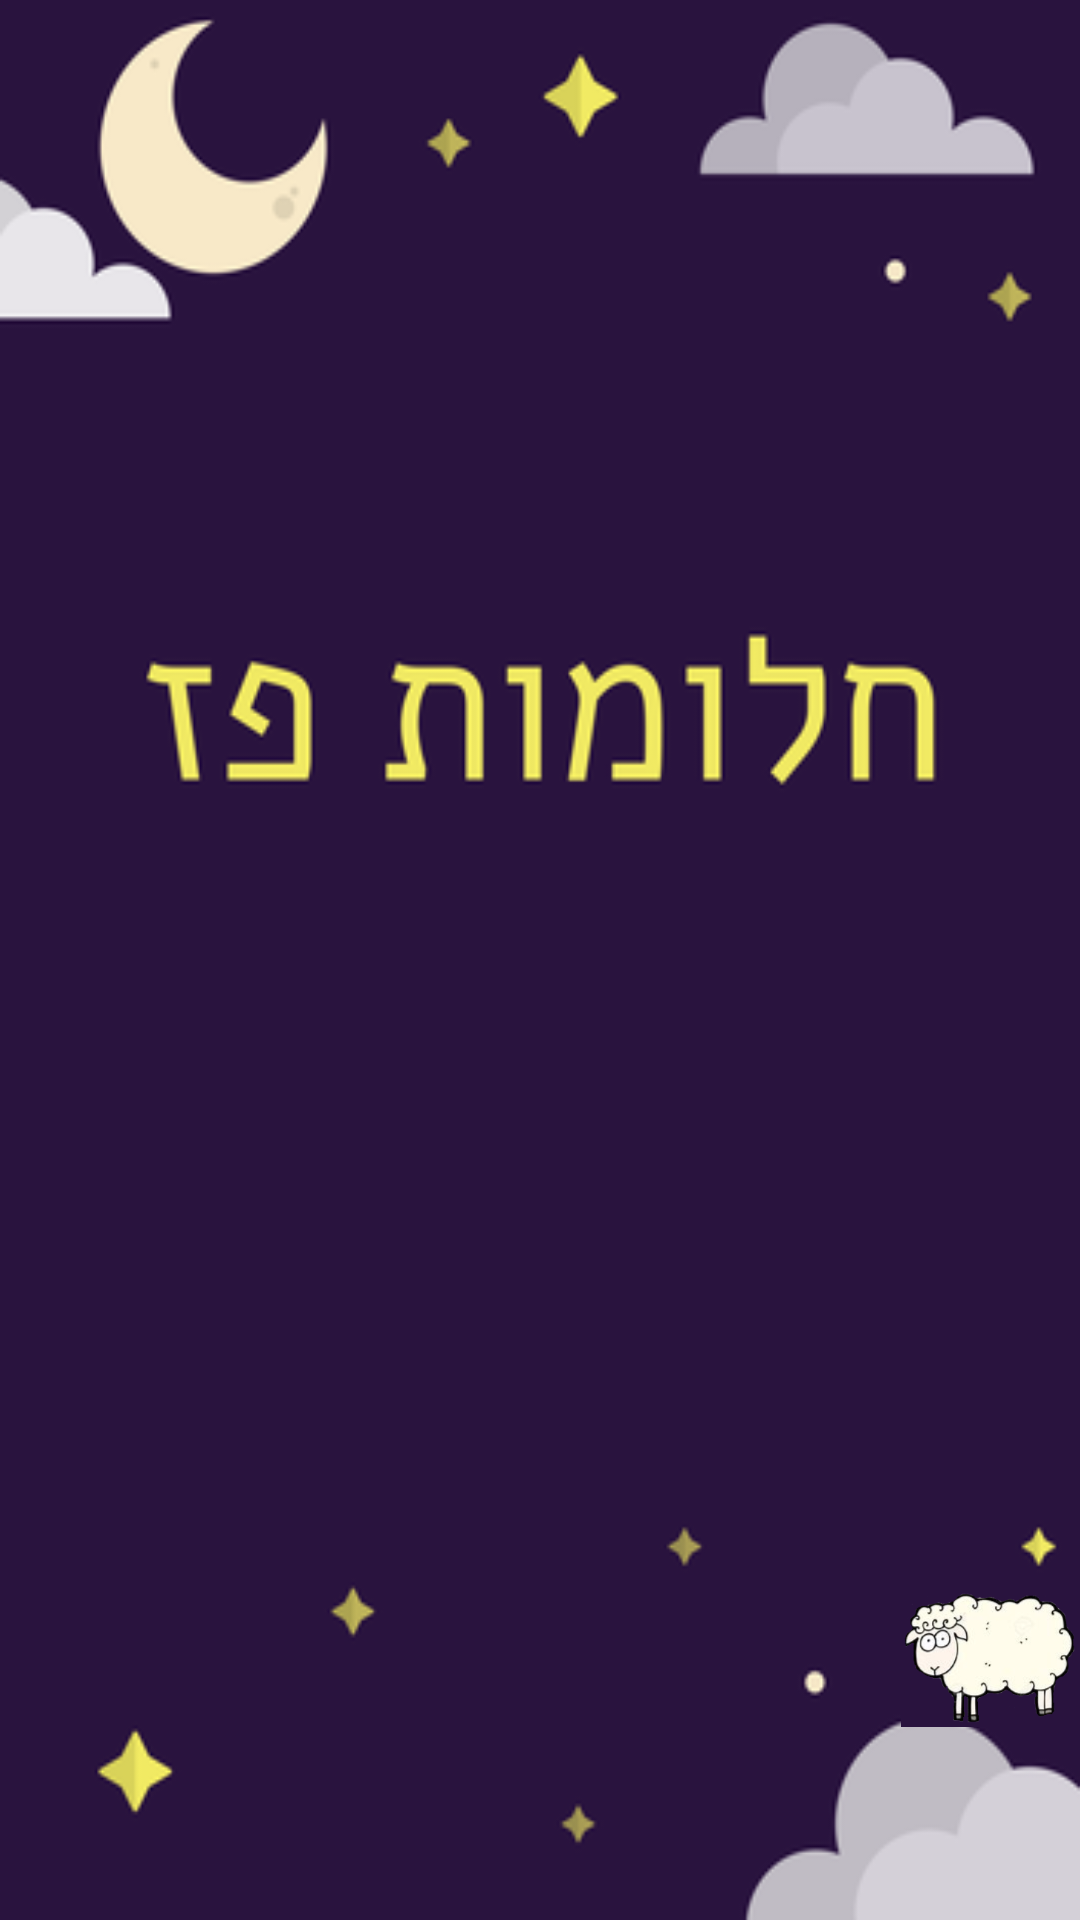

Icons on this 1080px×1920px Android screen, each with its box as (x1, y1, x2, y2):
sheep: (905, 1594, 1074, 1722)
